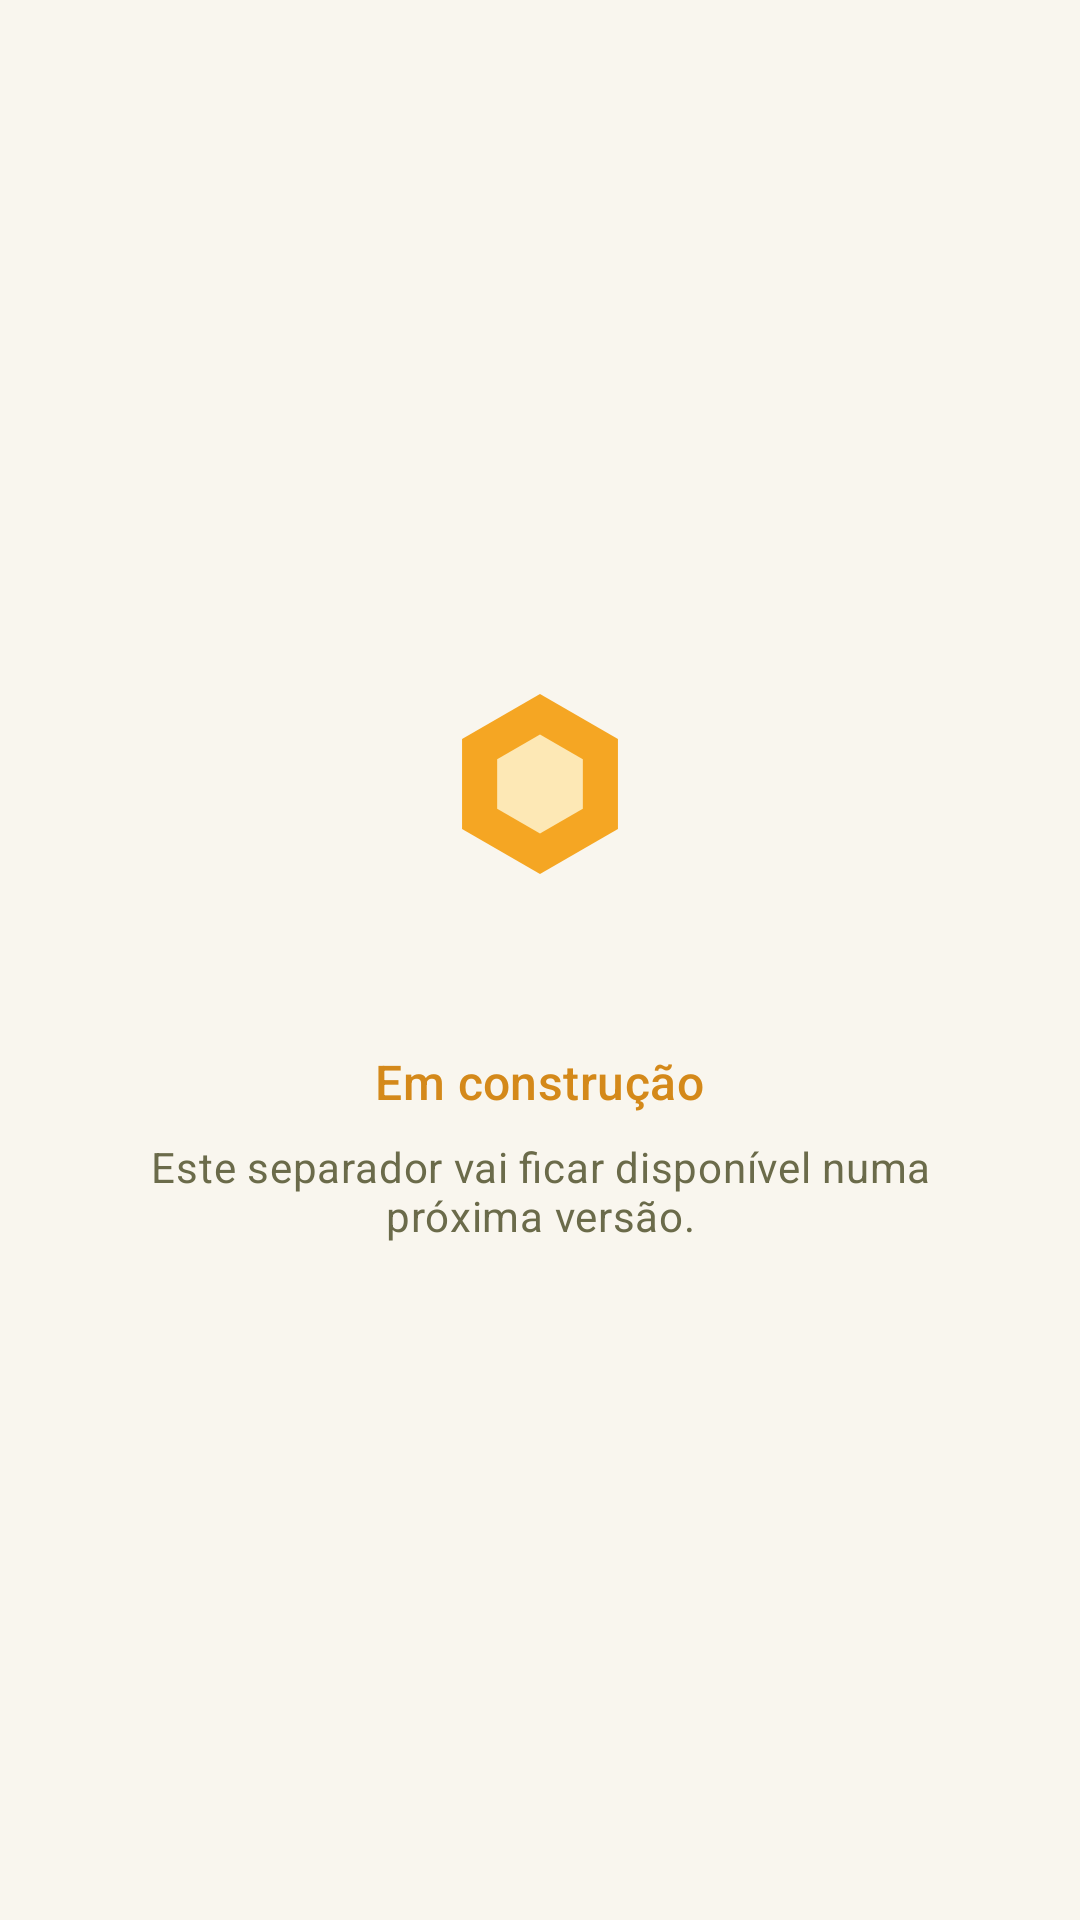

Icons on this 1080px×1920px Android screen, each with its box as (x1, y1, x2, y2):
hexagono: (462, 694, 618, 874)
